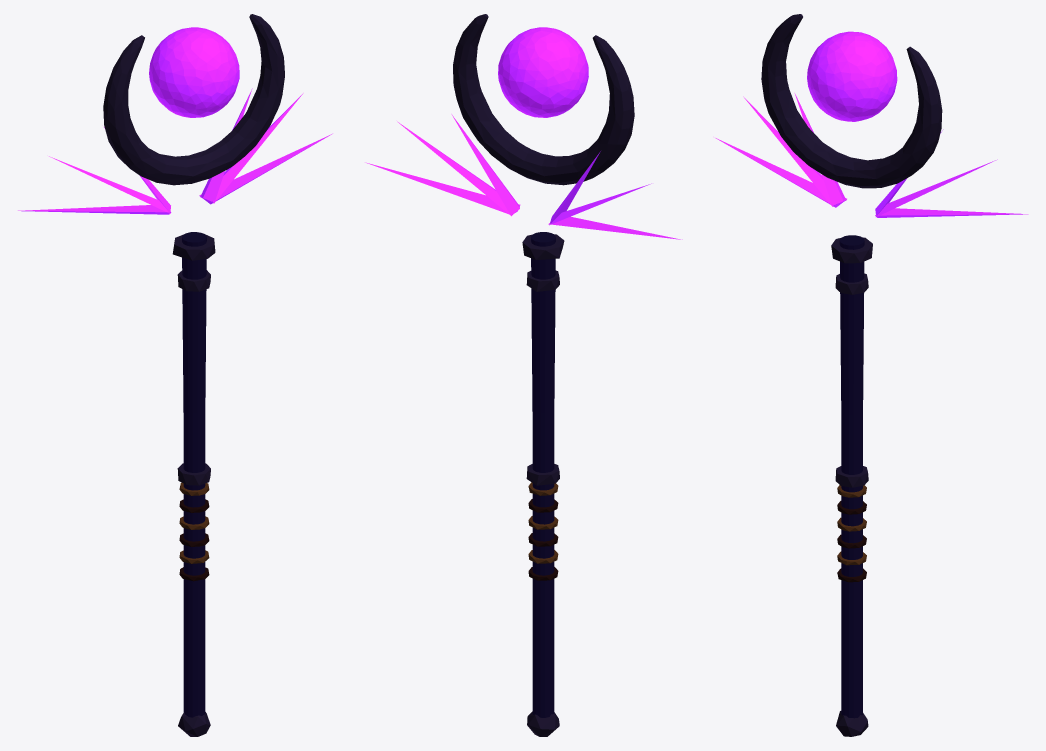
Rendered from staff_6.glb.
3 views of the same model, side by side, from view 1: azimuth 30°, elevation 25°; view 2: azimuth 150°, elevation 25°; view 3: azimuth 330°, elevation 25° (orthographic).
Visible parts, largest first — view 1: part_01, part_12, part_13, part_14, part_17, part_18, part_09, part_15, part_08; view 2: part_01, part_12, part_13, part_17, part_18, part_19, part_14, part_09, part_08; view 3: part_12, part_01, part_13, part_17, part_14, part_15, part_09, part_18, part_08.
Part boxes in pixels (x1,y1,x2,y2): part_01: [182, 232, 206, 717]; part_12: [103, 14, 284, 185]; part_13: [149, 27, 239, 117]; part_14: [18, 205, 171, 214]; part_17: [199, 133, 332, 204]; part_18: [200, 93, 303, 203]; part_09: [172, 233, 215, 260]; part_15: [49, 156, 170, 213]; part_08: [178, 712, 210, 736]; part_01: [531, 232, 555, 717]; part_12: [453, 14, 634, 185]; part_13: [498, 27, 588, 117]; part_17: [365, 162, 520, 215]; part_18: [397, 121, 513, 215]; part_19: [451, 114, 519, 215]; part_14: [548, 216, 682, 239]; part_09: [522, 234, 564, 259]; part_08: [527, 711, 559, 736]; part_12: [761, 14, 942, 188]; part_01: [839, 235, 864, 718]; part_13: [807, 31, 897, 121]; part_17: [875, 208, 1028, 217]; part_14: [715, 138, 846, 207]; part_15: [743, 96, 846, 206]; part_09: [831, 237, 872, 263]; part_18: [876, 159, 997, 216]; part_08: [836, 711, 868, 736].
Size of the model in its own units: 0.7101 by 1.51 by 0.174.
